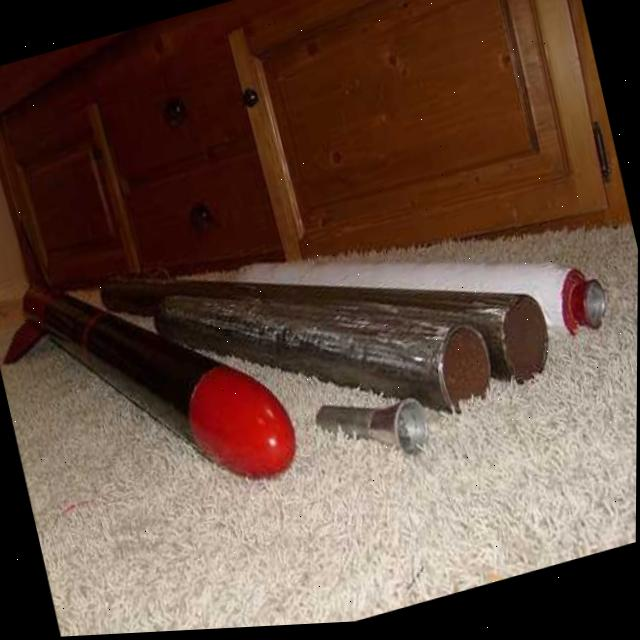missile: (0, 225, 303, 535)
